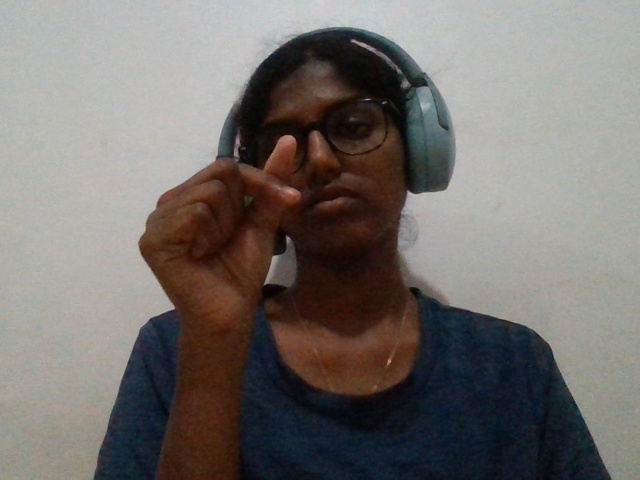G: (128, 110, 313, 480)
